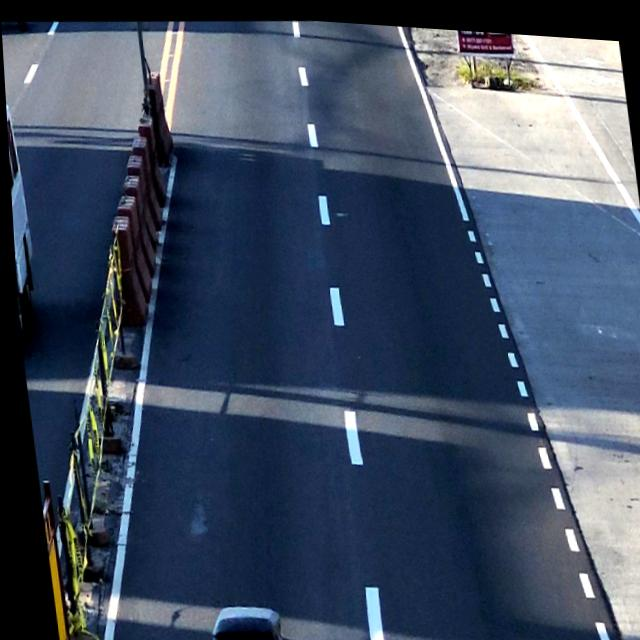Tricycle: (192, 591, 295, 640)
